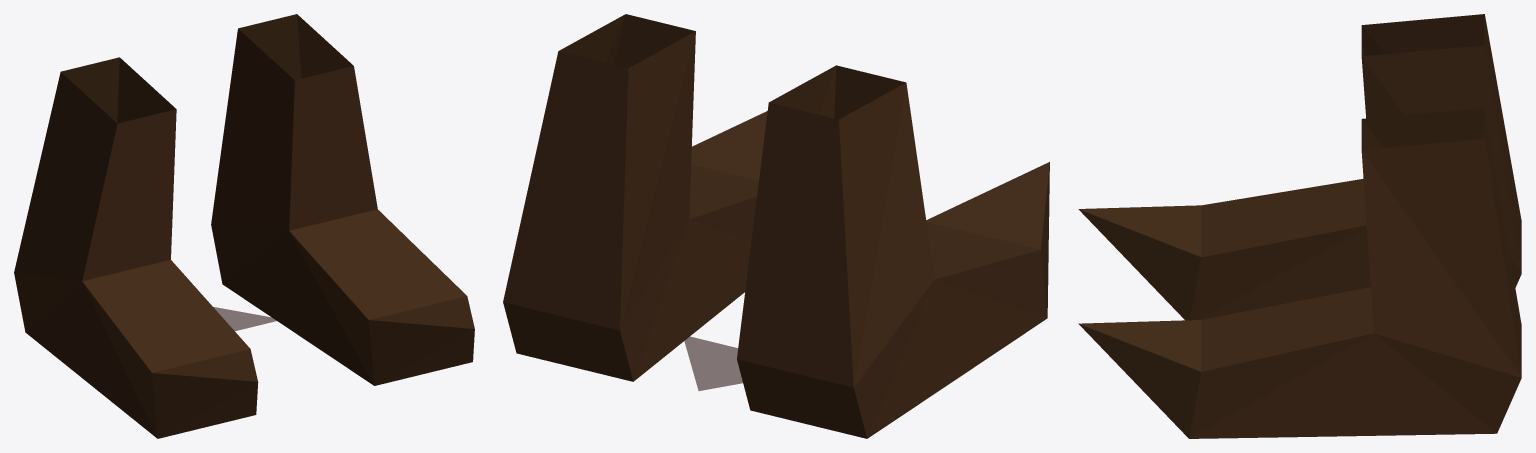
The model's file is model_183_idk.obj.
3 renders of one model, left to right at view 1: azimuth 30°, elevation 25°; view 2: azimuth 150°, elevation 25°; view 3: azimuth 270°, elevation 25°, orthographic. The views are drawn at different scales.
Visible parts, largest first — view 1: 183; view 2: 183; view 3: 183.
Part boxes in pixels (<box>): 183: <box>14,14,474,438</box>; 183: <box>503,14,1049,438</box>; 183: <box>1078,14,1521,438</box>.
Bounding box in the file's own units: 32 × 25 × 36.
